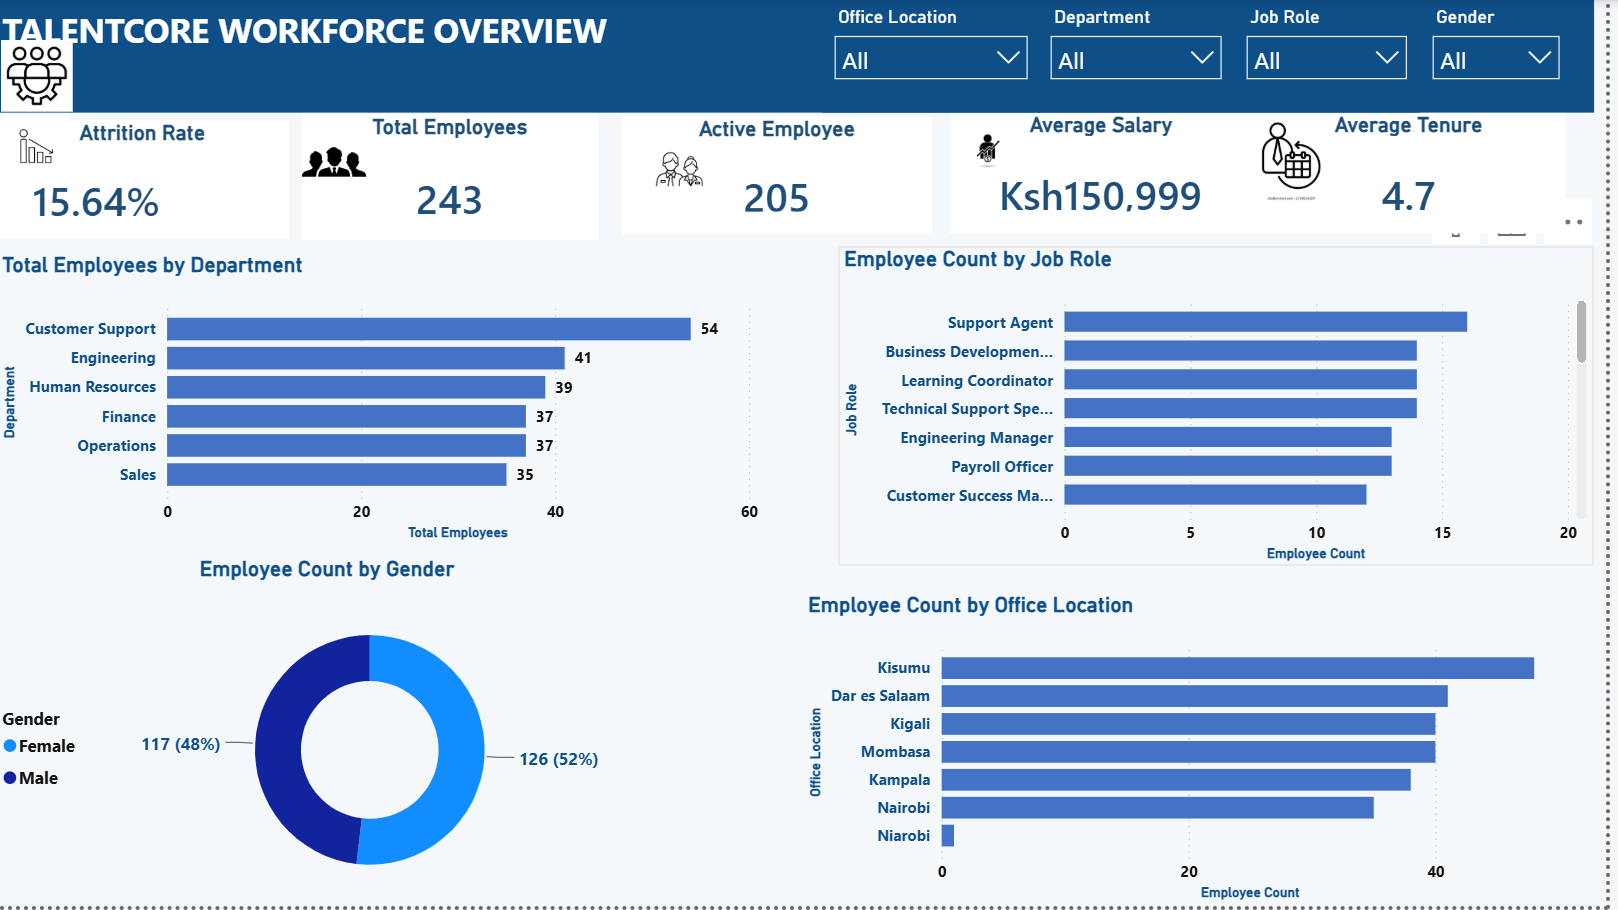

The dashboard page shown, as its layout file describes it:
{"tool":"powerbi","page":{"name":"Workforce Overview","canvas":[1280,720],"ordinal":0},"visuals":[{"type":"cardVisual","title":"Total Employees","fields":{"Data":["Employee Data.Total Employees"]},"box":[243.2,90.6,235.2,100.1],"z":0,"group":"g6"},{"type":"barChart","fields":{"Y":["Employee Data.Total Employees"],"Category":["Employee Data.Department"]},"box":[0,200.3,610.3,233.6],"z":0},{"type":"cardVisual","title":"Active Employee","fields":{"Data":["Employee Data.Active Employees"]},"box":[497.5,92.2,246.4,93.8],"z":1000,"group":"g1"},{"type":"barChart","fields":{"Category":["Employee Data.Office Location"],"Y":["Employee Data.Employee Count"]},"box":[640.5,470.5,613.5,249.5],"z":1000},{"type":"cardVisual","title":"Attrition Rate","fields":{"Data":["Employee Data.Attrition Rate"]},"box":[0,94.8,232.7,94.5],"z":2000,"group":"g2"},{"type":"clusteredBarChart","fields":{"Category":["Employee Data.Job Role"],"Y":["Employee Data.Employee Count"]},"box":[669.1,195.5,600,255],"z":2000},{"type":"cardVisual","title":"Average Salary","fields":{"Data":["Employee Data.Average Salary"]},"box":[758.1,89.1,240,96.4],"z":3000,"group":"g4"},{"type":"donutChart","fields":{"Category":["Employee Data.Gender"],"Y":["Employee Data.Employee Count"]},"box":[0,441.9,526.1,278.1],"z":3000},{"type":"cardVisual","title":"Average Tenure","fields":{"Data":["Employee Data.Average Tenure"]},"box":[998.1,88.8,249.1,96.4],"z":4000,"group":"g3"},{"type":"group","id":"g1","title":"Group 3","box":[497.5,92.2,246.4,93.8],"z":8000},{"type":"group","id":"g2","title":"Group 4","box":[0,90.6,232.1,98.5],"z":9000},{"type":"group","id":"g3","title":"Group 5","box":[998.1,88.8,249,96.5],"z":10000},{"type":"group","id":"g4","title":"Group 6","box":[758.1,89.1,240,96.4],"z":11000},{"type":"group","id":"g5","title":"Group 1","box":[0,0,1270.2,89.5],"z":13000},{"type":"slicer","fields":{"Values":["Employee Data.Office Location"]},"box":[656.1,0,173.7,89.5],"z":13500},{"type":"textbox","box":[0,0,1270.2,89.5],"z":13750,"group":"g5"},{"type":"slicer","fields":{"Values":["Employee Data.Job Role"]},"box":[984.2,0,147.4,89.5],"z":13750},{"type":"slicer","fields":{"Values":["Employee Data.Department"]},"box":[828.1,0,156.1,89.5],"z":13875},{"type":"slicer","fields":{"Values":["Employee Data.Gender"]},"box":[1131.7,0,120.8,71.5],"z":14000},{"type":"image","box":[509.6,111.8,65.4,46.4],"z":14256,"group":"g1"},{"type":"image","box":[0,90.6,64.4,51.1],"z":14258,"group":"g2"},{"type":"image","box":[998.6,92.5,62.5,68.2],"z":14260,"group":"g3"},{"type":"image","box":[758.1,92.2,60.4,47.7],"z":14262,"group":"g4"},{"type":"image","box":[243.2,97,50.9,63.6],"z":14264,"group":"g6"},{"type":"group","id":"g6","title":"Group 2","box":[243.2,90.6,235.2,100.1],"z":14265},{"type":"image","box":[0,31.8,65.2,57.2],"z":14266,"group":"g5"}]}

Visuals, with their boxes in screenshot pixels (x1, y1, x2, y2), scaled from the page's 1280x720 canvas onto the 1618x910 screenshot:
"Total Employees" cardVisual: x1=307 y1=115 x2=605 y2=241
barChart - Employee Data.Total Employees x Employee Data.Department: x1=0 y1=253 x2=771 y2=548
"Active Employee" cardVisual: x1=629 y1=117 x2=940 y2=235
barChart - Employee Data.Office Location x Employee Data.Employee Count: x1=810 y1=595 x2=1585 y2=909
"Attrition Rate" cardVisual: x1=0 y1=120 x2=294 y2=239
clusteredBarChart - Employee Data.Job Role x Employee Data.Employee Count: x1=846 y1=247 x2=1604 y2=569
"Average Salary" cardVisual: x1=958 y1=113 x2=1262 y2=234
donutChart - Employee Data.Gender x Employee Data.Employee Count: x1=0 y1=559 x2=665 y2=909
"Average Tenure" cardVisual: x1=1262 y1=112 x2=1577 y2=234
"Group 3" group: x1=629 y1=117 x2=940 y2=235
"Group 4" group: x1=0 y1=115 x2=293 y2=239
"Group 5" group: x1=1262 y1=112 x2=1576 y2=234
"Group 6" group: x1=958 y1=113 x2=1262 y2=234
"Group 1" group: x1=0 y1=0 x2=1606 y2=113
slicer - Employee Data.Office Location: x1=829 y1=0 x2=1049 y2=113
textbox: x1=0 y1=0 x2=1606 y2=113
slicer - Employee Data.Job Role: x1=1244 y1=0 x2=1430 y2=113
slicer - Employee Data.Department: x1=1047 y1=0 x2=1244 y2=113
slicer - Employee Data.Gender: x1=1431 y1=0 x2=1583 y2=90
image: x1=644 y1=141 x2=727 y2=200
image: x1=0 y1=115 x2=81 y2=179
image: x1=1262 y1=117 x2=1341 y2=203
image: x1=958 y1=117 x2=1035 y2=177
image: x1=307 y1=123 x2=372 y2=203
"Group 2" group: x1=307 y1=115 x2=605 y2=241
image: x1=0 y1=40 x2=82 y2=112
